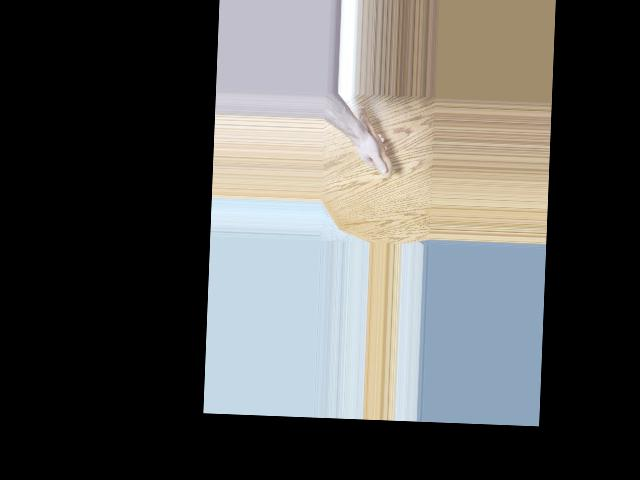sweet_potato: (353, 102, 397, 178)
